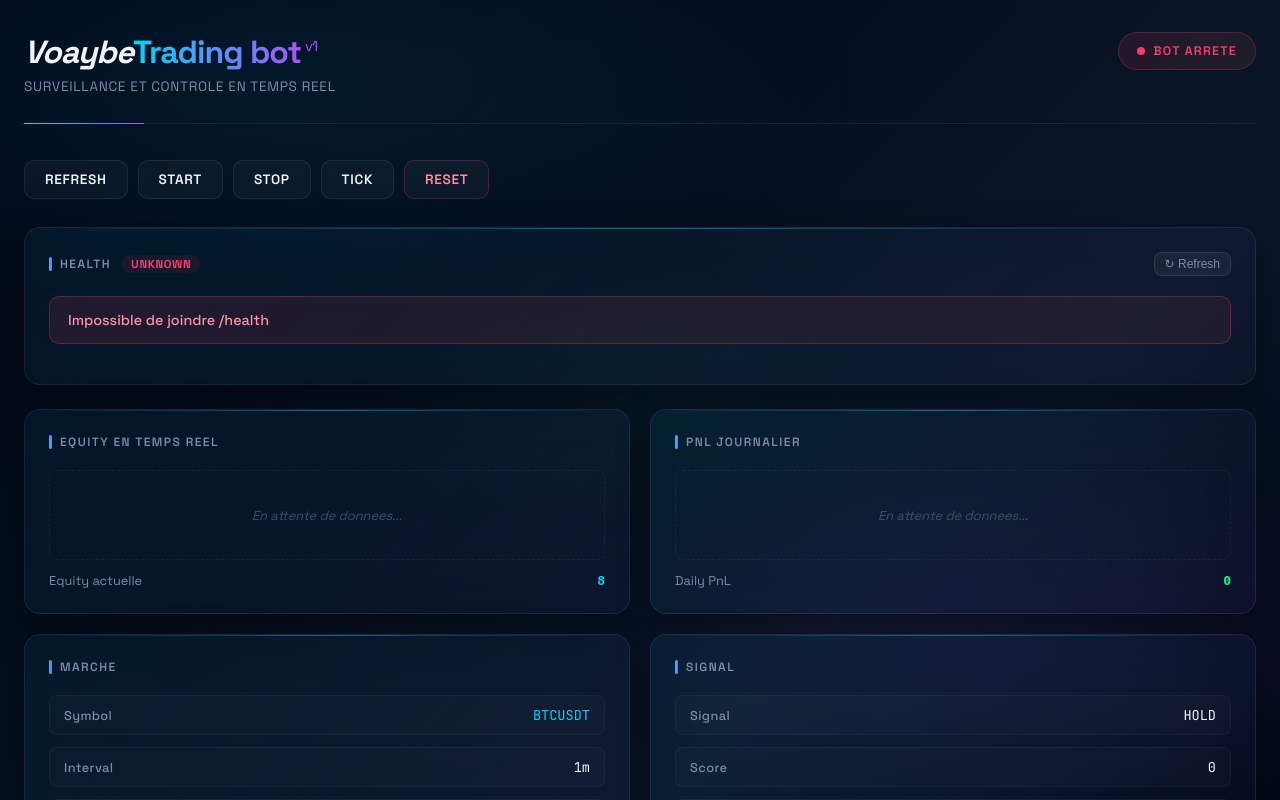
Test case: Modal de confirmation Reset › ferme la modal après annulation
Step 1. Click the button "Reset" → [447, 180], box [404,160,489,199]
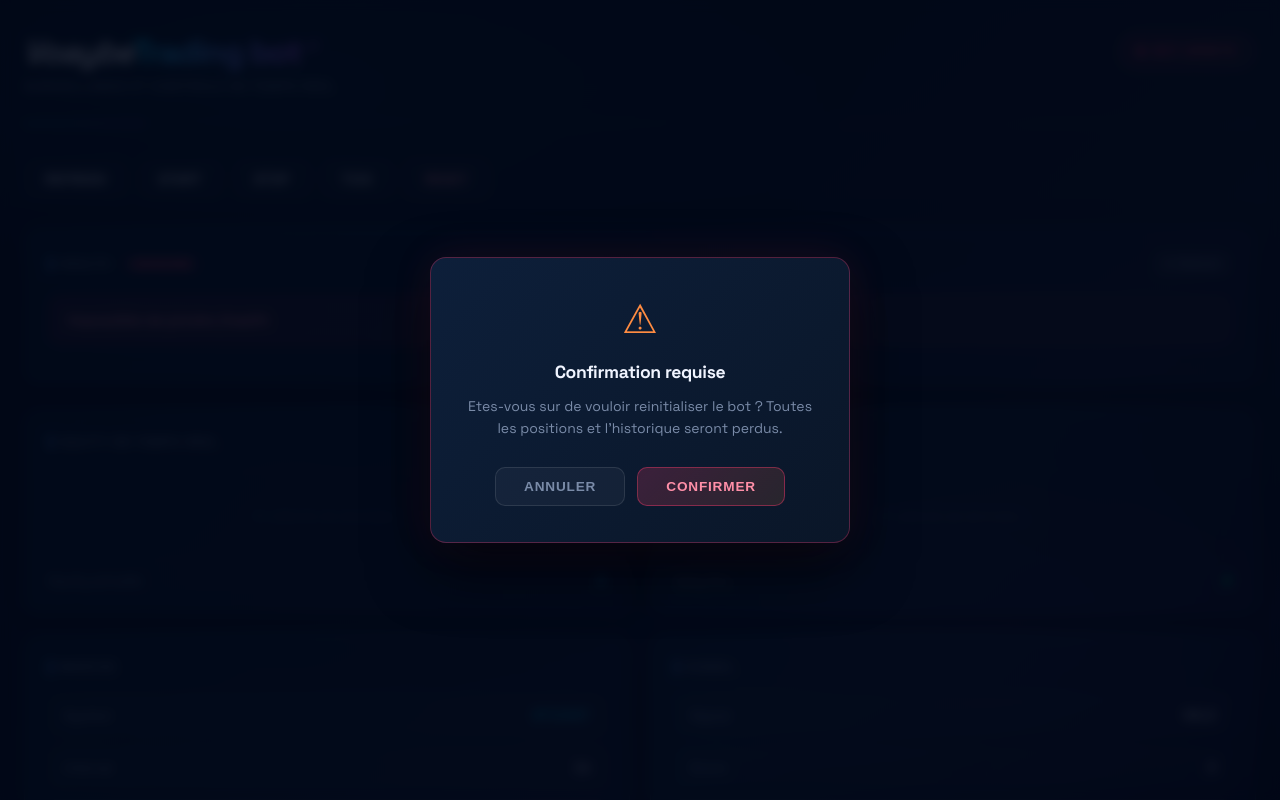
Step 2. Click the button "Annuler" → [560, 487], box [495,467,625,506]
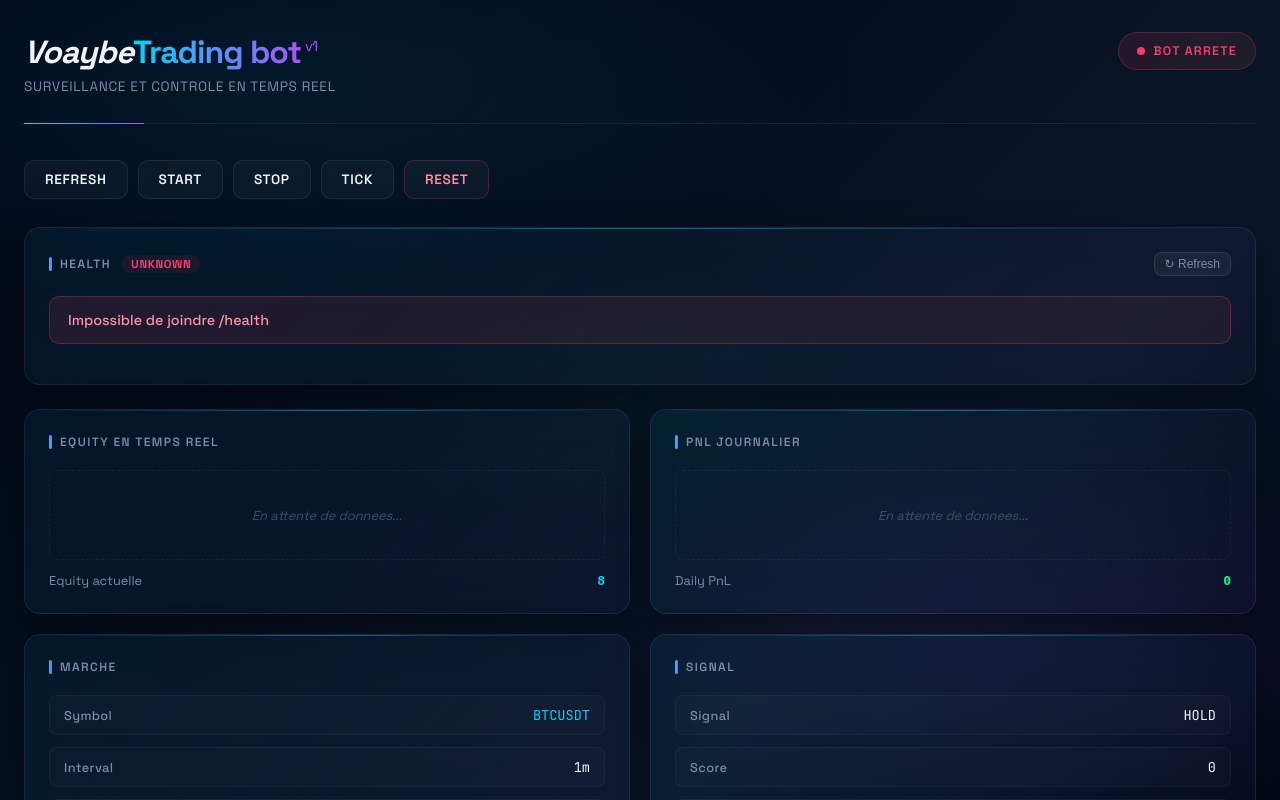
Expected: the heading "Confirmation requise" is gone
